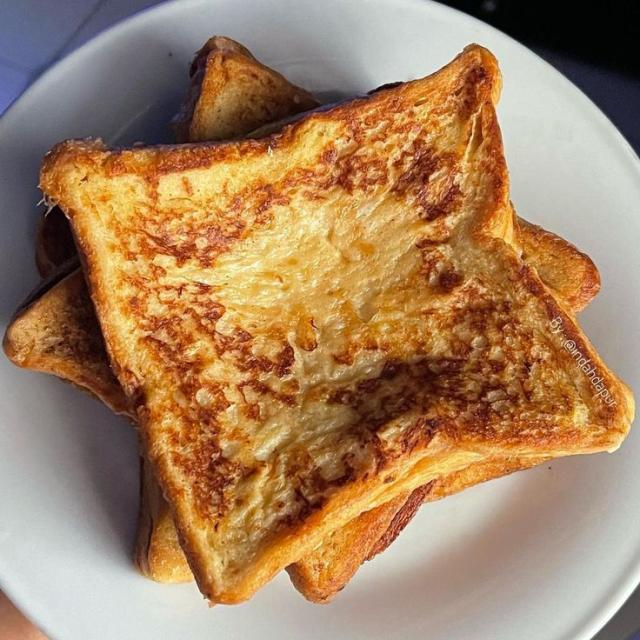toast bread: (42, 47, 632, 601), (521, 223, 597, 302)
